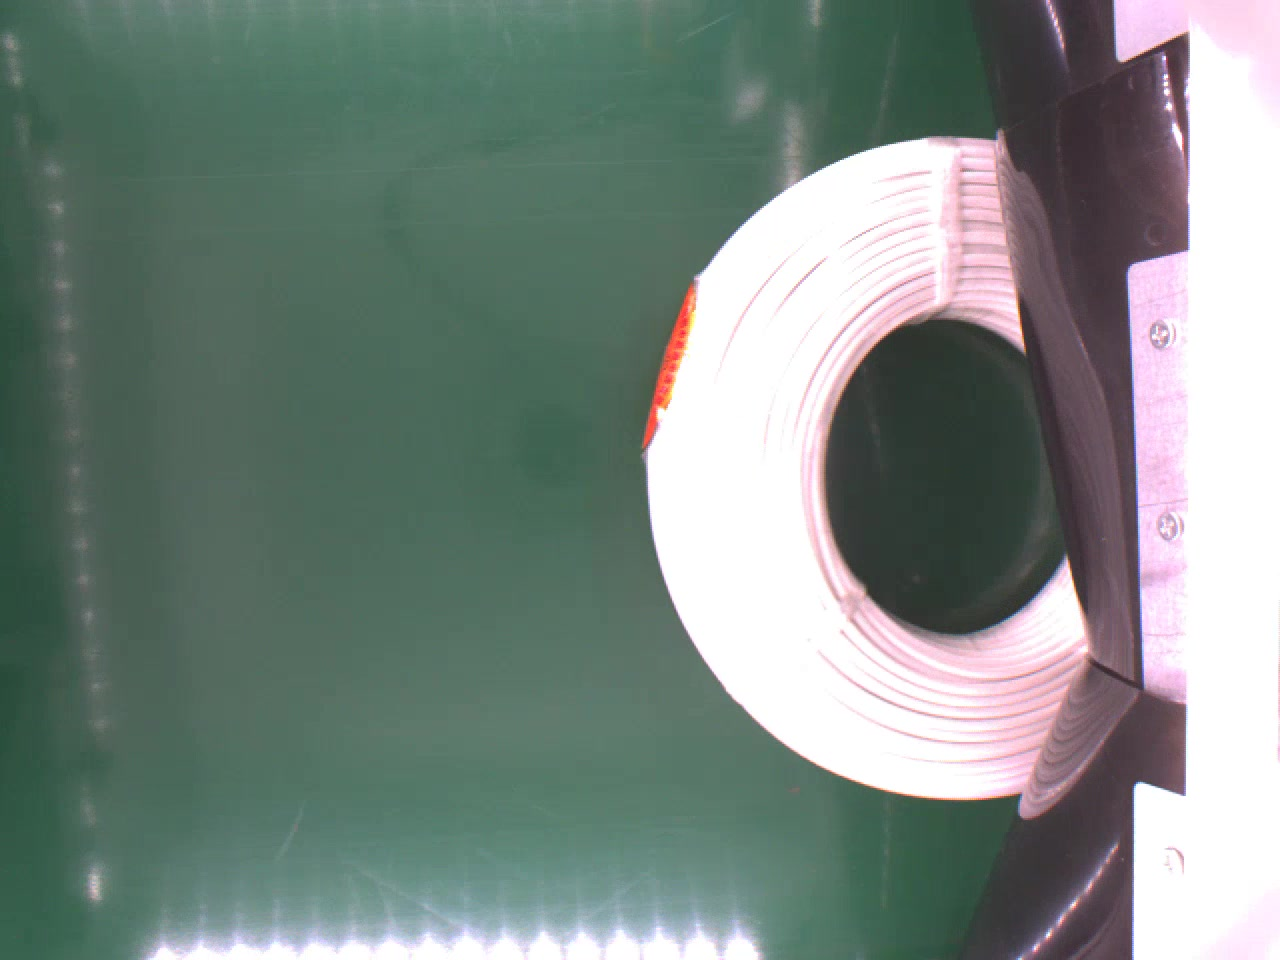white: (641, 132, 1092, 801)
